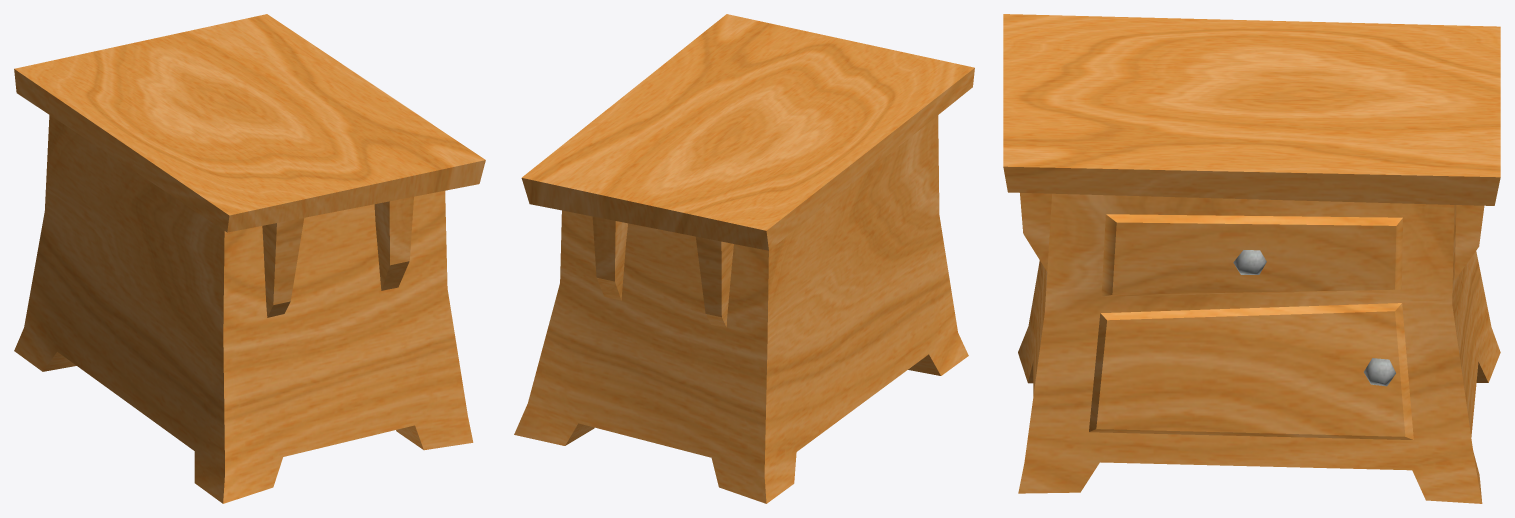
The model's file is buro.obj.
3 renders of one model, left to right at view 1: azimuth 30°, elevation 25°; view 2: azimuth 150°, elevation 25°; view 3: azimuth 270°, elevation 25°, orthographic. The views are drawn at different scales.
Parts seen in each view (by area): view 1: cama_techo_buro_escaleras:polySurface1484 polySurface49, cama_techo_buro_escaleras:polySurface1484 polySurface20, cama_techo_buro_escaleras:polySurface1484 polySurface50, cama_techo_buro_escaleras:polySurface1484 polySurface14, cama_techo_buro_escaleras:polySurface1484 polySurface17, cama_techo_buro_escaleras:polySurface1484 polySurface55, cama_techo_buro_escaleras:polySurface1484 polySurface34, cama_techo_buro_escaleras:polySurface1484 polySurface33, cama_techo_buro_escaleras:polySurface1484 polySurface54; view 2: cama_techo_buro_escaleras:polySurface1484 polySurface20, cama_techo_buro_escaleras:polySurface1484 polySurface51, cama_techo_buro_escaleras:polySurface1484 polySurface50, cama_techo_buro_escaleras:polySurface1484 polySurface16, cama_techo_buro_escaleras:polySurface1484 polySurface17, cama_techo_buro_escaleras:polySurface1484 polySurface59, cama_techo_buro_escaleras:polySurface1484 polySurface30, cama_techo_buro_escaleras:polySurface1484 polySurface58, cama_techo_buro_escaleras:polySurface1484 polySurface29; view 3: cama_techo_buro_escaleras:polySurface1484 polySurface20, cama_techo_buro_escaleras:polySurface1484 polySurface37, cama_techo_buro_escaleras:polySurface1484 polySurface18, cama_techo_buro_escaleras:polySurface1484 polySurface38, cama_techo_buro_escaleras:polySurface1484 polySurface15, cama_techo_buro_escaleras:polySurface1484 polySurface51, cama_techo_buro_escaleras:polySurface1484 polySurface36, cama_techo_buro_escaleras:polySurface1484 polySurface35, cama_techo_buro_escaleras:polySurface1484 polySurface32, cama_techo_buro_escaleras:polySurface1484 polySurface49, cama_techo_buro_escaleras:polySurface1484 polySurface28, cama_techo_buro_escaleras:polySurface1484 polySurface12 (+4 smaller).
Part boxes in pixels (x1=…): cama_techo_buro_escaleras:polySurface1484 polySurface49: x1=223, y1=190, x2=473, y2=503; cama_techo_buro_escaleras:polySurface1484 polySurface20: x1=14, y1=14, x2=485, y2=215; cama_techo_buro_escaleras:polySurface1484 polySurface50: x1=14, y1=115, x2=224, y2=503; cama_techo_buro_escaleras:polySurface1484 polySurface14: x1=227, y1=160, x2=485, y2=232; cama_techo_buro_escaleras:polySurface1484 polySurface17: x1=14, y1=69, x2=229, y2=232; cama_techo_buro_escaleras:polySurface1484 polySurface55: x1=273, y1=218, x2=304, y2=304; cama_techo_buro_escaleras:polySurface1484 polySurface34: x1=389, y1=196, x2=413, y2=265; cama_techo_buro_escaleras:polySurface1484 polySurface33: x1=374, y1=201, x2=389, y2=290; cama_techo_buro_escaleras:polySurface1484 polySurface54: x1=262, y1=223, x2=276, y2=317; cama_techo_buro_escaleras:polySurface1484 polySurface20: x1=522, y1=14, x2=974, y2=230; cama_techo_buro_escaleras:polySurface1484 polySurface51: x1=514, y1=210, x2=768, y2=503; cama_techo_buro_escaleras:polySurface1484 polySurface50: x1=764, y1=115, x2=968, y2=503; cama_techo_buro_escaleras:polySurface1484 polySurface16: x1=521, y1=178, x2=768, y2=250; cama_techo_buro_escaleras:polySurface1484 polySurface17: x1=766, y1=68, x2=974, y2=250; cama_techo_buro_escaleras:polySurface1484 polySurface59: x1=696, y1=236, x2=721, y2=317; cama_techo_buro_escaleras:polySurface1484 polySurface30: x1=592, y1=216, x2=615, y2=281; cama_techo_buro_escaleras:polySurface1484 polySurface58: x1=721, y1=241, x2=733, y2=326; cama_techo_buro_escaleras:polySurface1484 polySurface29: x1=615, y1=221, x2=627, y2=300; cama_techo_buro_escaleras:polySurface1484 polySurface20: x1=1003, y1=14, x2=1500, y2=177; cama_techo_buro_escaleras:polySurface1484 polySurface37: x1=1018, y1=193, x2=1482, y2=503; cama_techo_buro_escaleras:polySurface1484 polySurface18: x1=1096, y1=311, x2=1405, y2=436; cama_techo_buro_escaleras:polySurface1484 polySurface38: x1=1112, y1=222, x2=1396, y2=294; cama_techo_buro_escaleras:polySurface1484 polySurface15: x1=1003, y1=166, x2=1500, y2=205; cama_techo_buro_escaleras:polySurface1484 polySurface51: x1=1452, y1=205, x2=1500, y2=502; cama_techo_buro_escaleras:polySurface1484 polySurface36: x1=1106, y1=214, x2=1402, y2=225; cama_techo_buro_escaleras:polySurface1484 polySurface35: x1=1101, y1=303, x2=1401, y2=320; cama_techo_buro_escaleras:polySurface1484 polySurface32: x1=1020, y1=193, x2=1051, y2=271; cama_techo_buro_escaleras:polySurface1484 polySurface49: x1=1018, y1=260, x2=1047, y2=395; cama_techo_buro_escaleras:polySurface1484 polySurface28: x1=1454, y1=205, x2=1484, y2=279; cama_techo_buro_escaleras:polySurface1484 polySurface12: x1=1089, y1=429, x2=1412, y2=439.
Size of the model in its own units: 0.7052 by 0.7346 by 0.9784.
